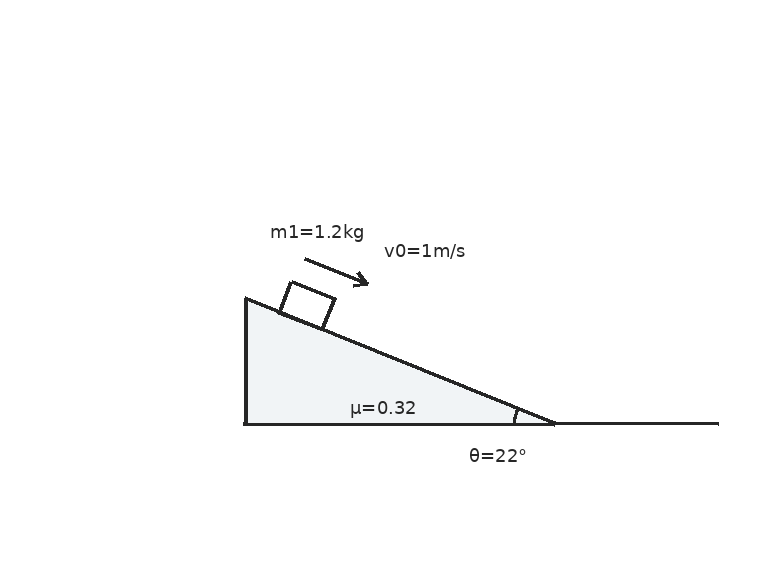block: (276, 279, 336, 332)
ramp: (242, 297, 556, 426)
